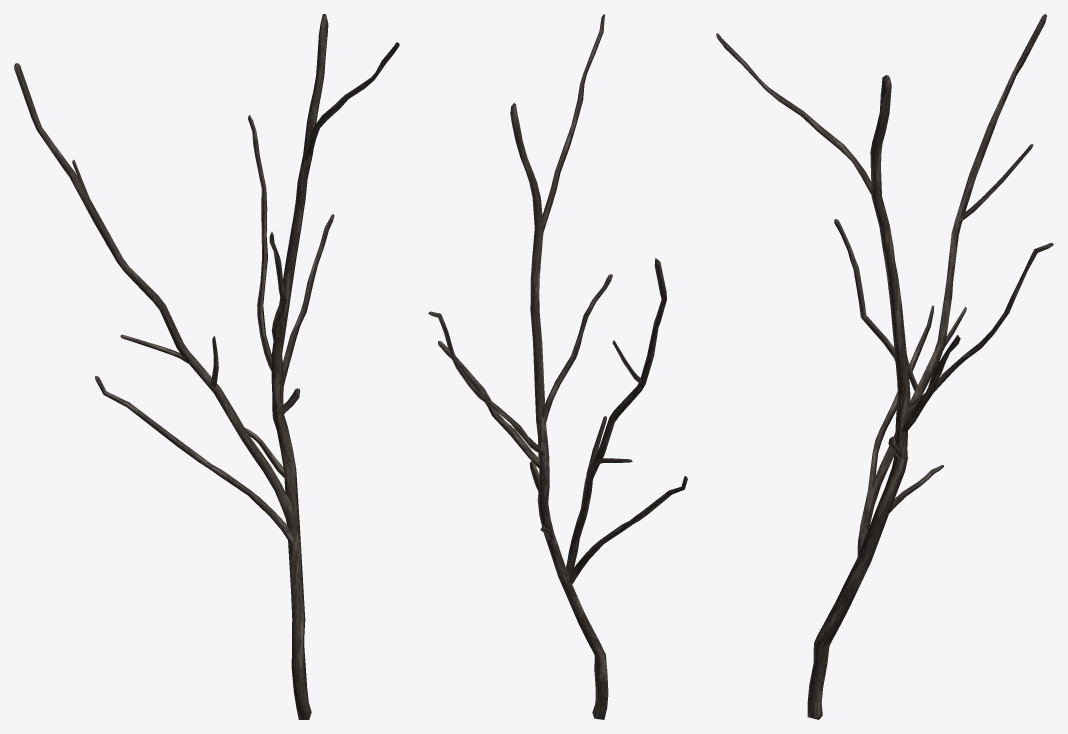
Rendered from Branch_deadwood2_LOD2.fbx.
3 views of the same model, side by side, from view 1: azimuth 30°, elevation 25°; view 2: azimuth 150°, elevation 25°; view 3: azimuth 270°, elevation 25° (orthographic). The views are drawn at different scales.
Parts seen in each view (by area): view 1: polySurface8; view 2: polySurface8; view 3: polySurface8.
Part boxes in pixels (x1,y1,x2,y2): polySurface8: [14, 14, 399, 719]; polySurface8: [428, 14, 687, 719]; polySurface8: [716, 14, 1053, 719].
Bounding box in the file's own units: 129 × 312 × 135.
